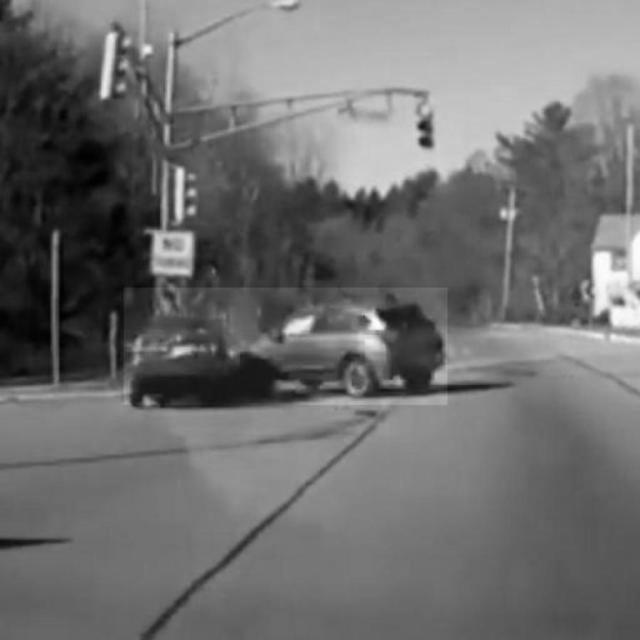accident: (124, 288, 448, 406)
